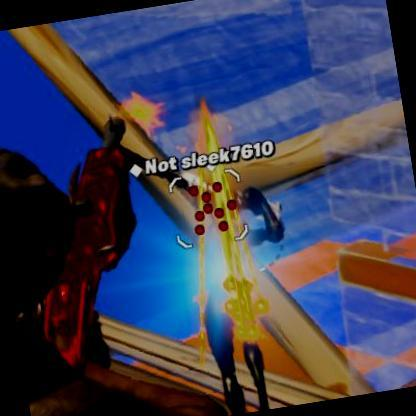person: (178, 174, 268, 396)
